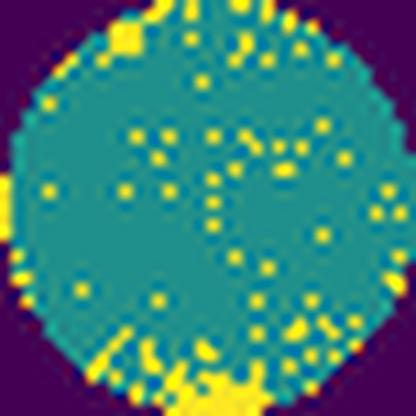Edge-Loc: (156, 351, 277, 416)
